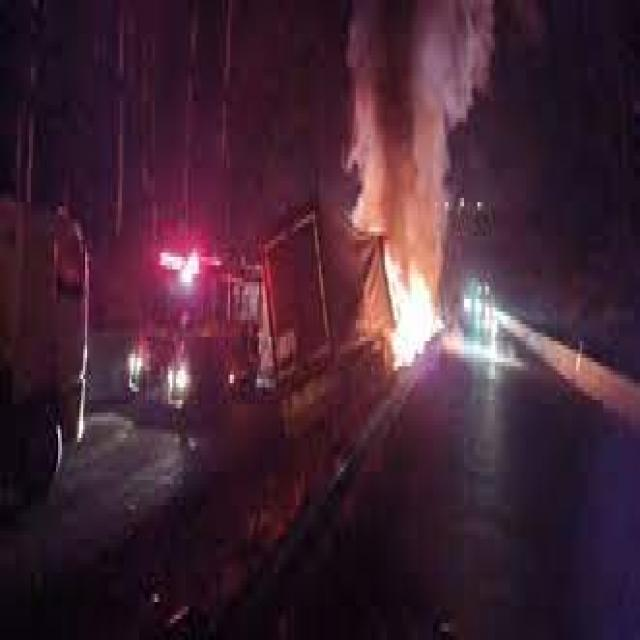fire: (384, 266, 444, 366)
smoke: (340, 4, 491, 265)
